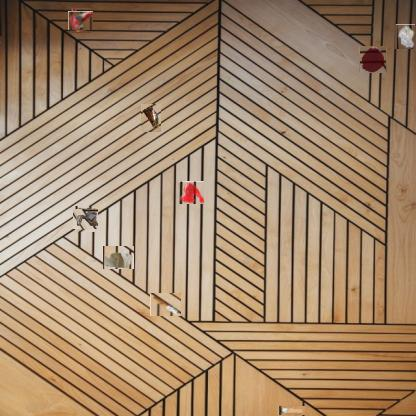dirty: (102, 245, 134, 270), (150, 292, 181, 316), (141, 104, 161, 132), (69, 9, 92, 32), (74, 208, 96, 231), (396, 24, 416, 49), (278, 405, 305, 415)
liquid: (360, 46, 386, 72), (178, 181, 204, 204)
